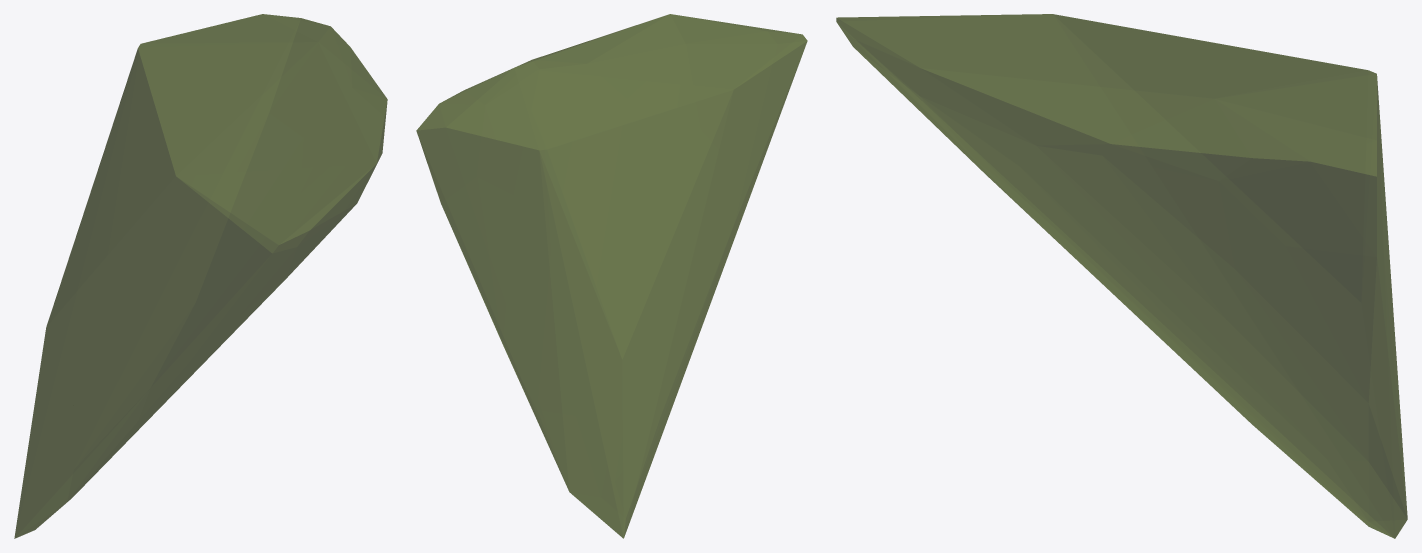
3 renders of one model, left to right at view 1: azimuth 30°, elevation 25°; view 2: azimuth 150°, elevation 25°; view 3: azimuth 270°, elevation 25°, orthographic. The views are drawn at different scales.
Visible parts, largest first — view 1: Shape_IndexedFaceSet.020_Shape_IndexedFaceSet.4366; view 2: Shape_IndexedFaceSet.020_Shape_IndexedFaceSet.4366; view 3: Shape_IndexedFaceSet.020_Shape_IndexedFaceSet.4366.
Boxes of the visible parts, x1=… form: Shape_IndexedFaceSet.020_Shape_IndexedFaceSet.4366: x1=14, y1=14, x2=387, y2=538; Shape_IndexedFaceSet.020_Shape_IndexedFaceSet.4366: x1=416, y1=14, x2=807, y2=538; Shape_IndexedFaceSet.020_Shape_IndexedFaceSet.4366: x1=836, y1=14, x2=1407, y2=538.
Size of the model in its own units: 0.2774 by 0.4767 by 0.439.
